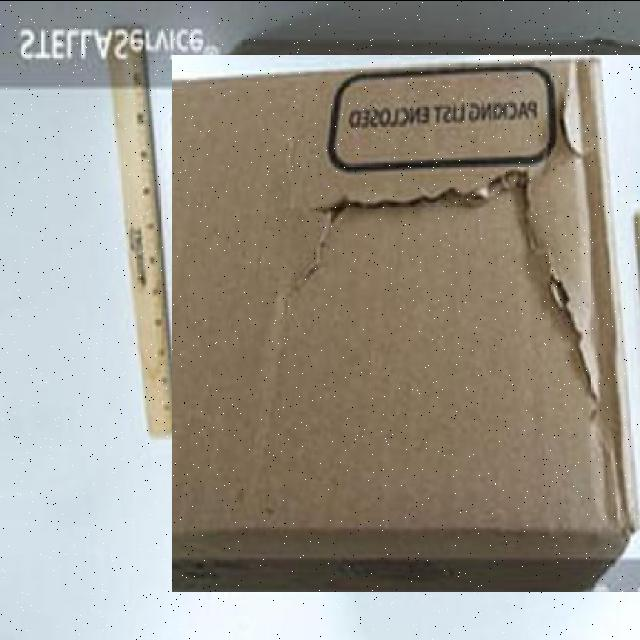defect: (172, 54, 640, 591)
